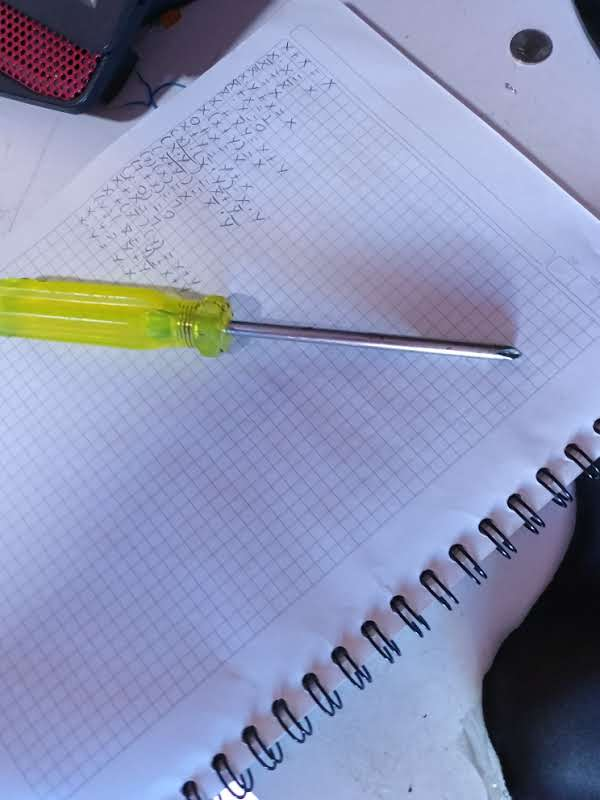Destornillador: (0, 276, 520, 359)
